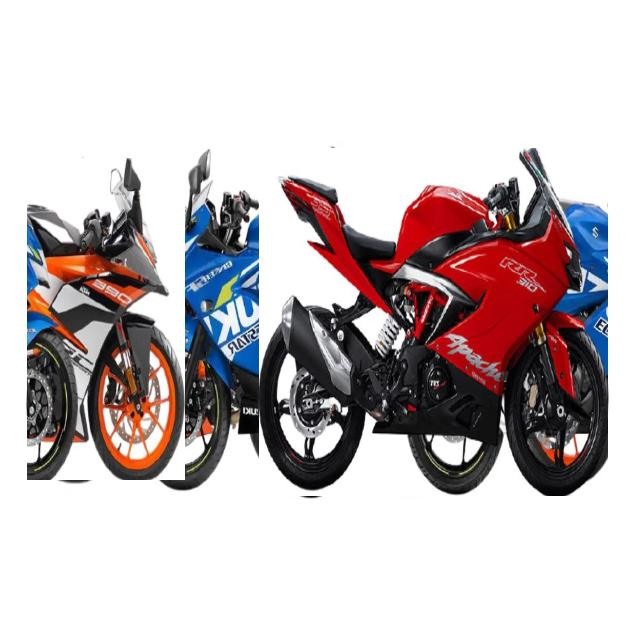motorcycle: (259, 148, 608, 496), (134, 180, 309, 487), (27, 159, 184, 480)
